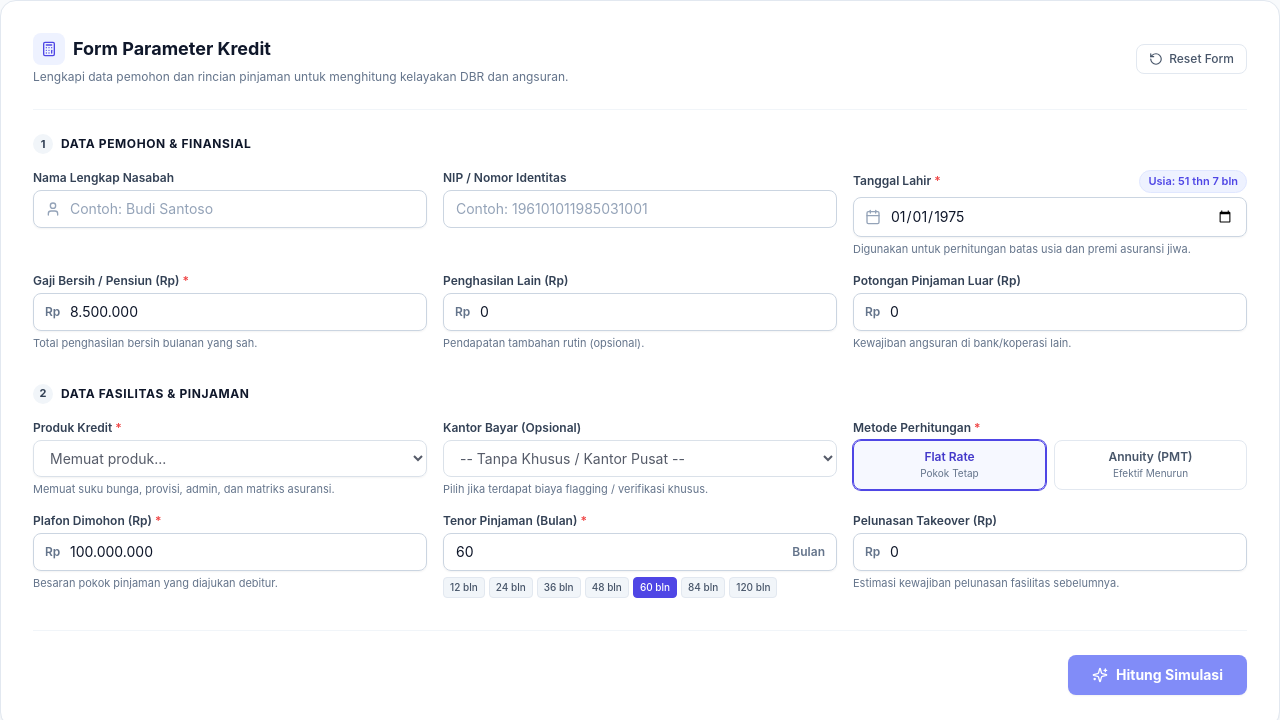
Scenario: TASK-044: Calculator Form UI & Logic Tests › should reset form fields when reset button is clicked
The image size is (1280, 720).
Step 1. Type "Nama Sementara" into the field labelled "Nama Lengkap Nasabah" → {"x": 230, "y": 209}, box [33,190,427,228]
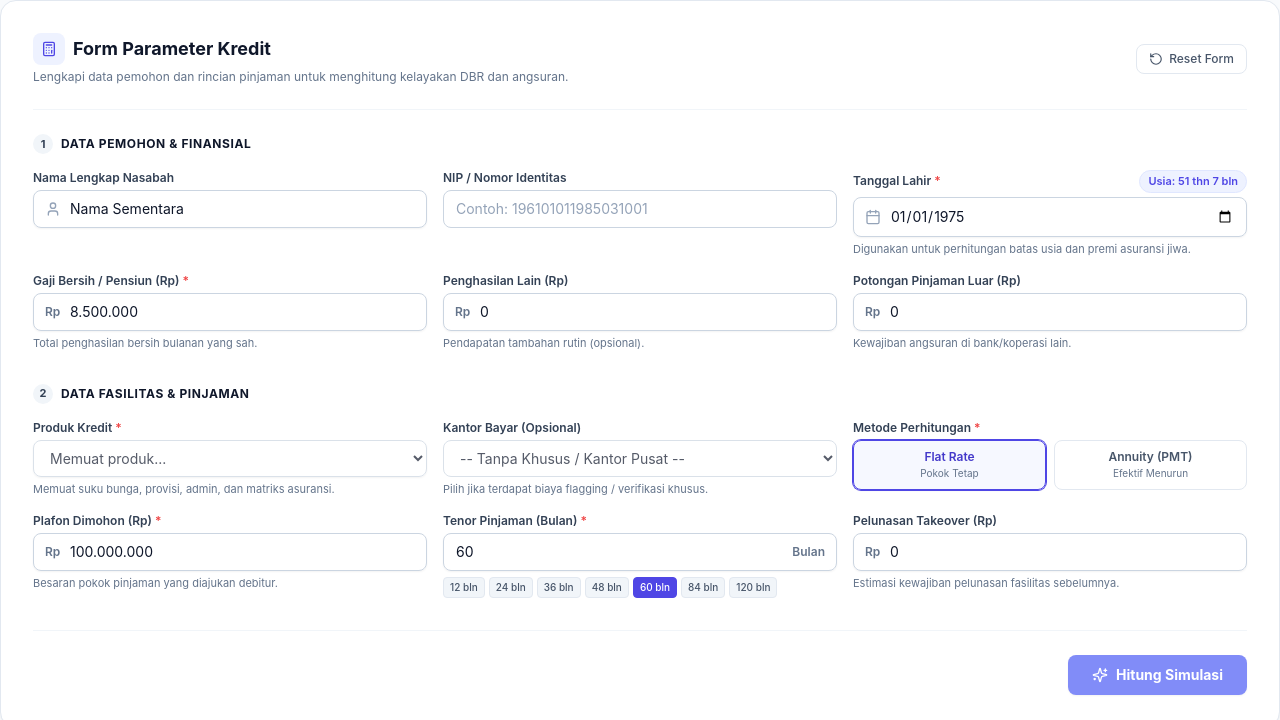
Step 2. Click the button with test id "calculator-reset-btn" → {"x": 1192, "y": 59}, box [1136,44,1247,74]
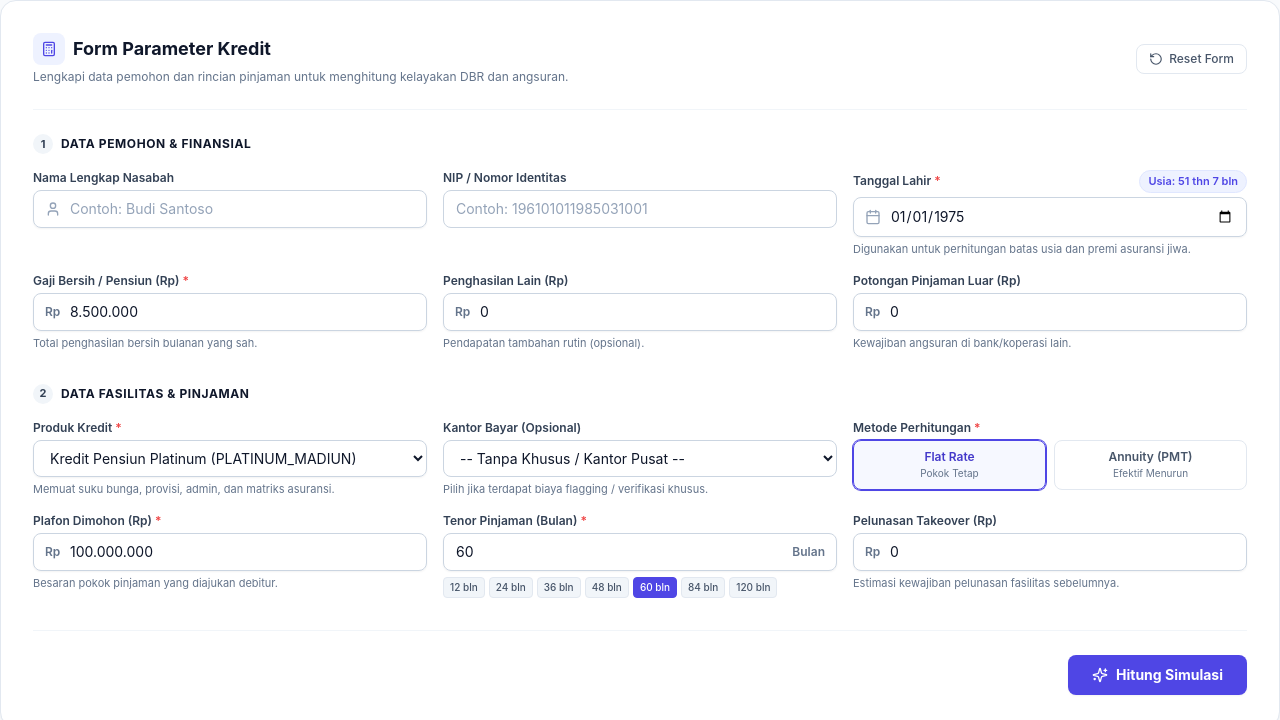
Expected: the field labelled "Nama Lengkap Nasabah" is empty, [33,190,427,228]
